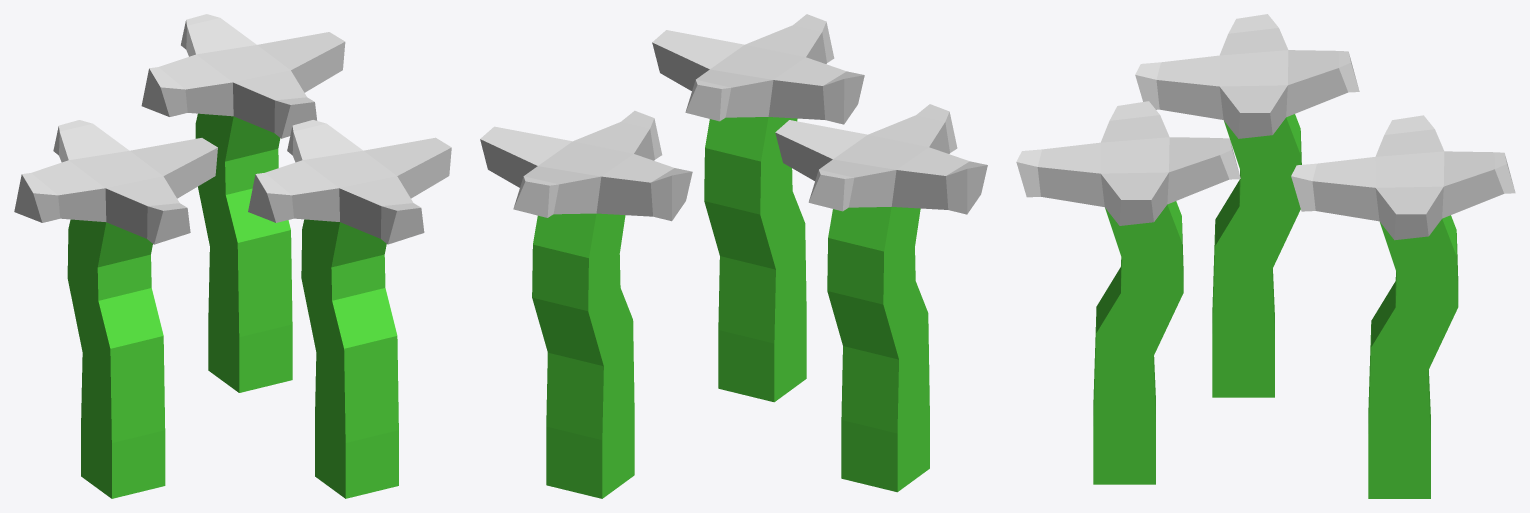
Rendered from flower_white_3.glb.
The picture shows the model from 3 angles, left to right: view 1: azimuth 30°, elevation 25°; view 2: azimuth 150°, elevation 25°; view 3: azimuth 270°, elevation 25°; orthographic projection. The views are drawn at different scales.
Parts seen in each view (by area): view 1: Cube.001, Cube.002, Cube; view 2: Cube, Cube.001, Cube.002; view 3: Cube.002, Cube, Cube.001.
Part boxes in pixels (x1,y1,x2,y2): Cube.001: (14,120,217,498); Cube.002: (248,120,451,498); Cube: (141,14,345,392); Cube: (480,110,692,498); Cube.001: (775,104,987,492); Cube.002: (652,14,864,402); Cube.002: (1016,101,1240,484); Cube: (1291,115,1515,498); Cube.001: (1135,14,1359,397).
Size of the model in its own units: 0.7329 by 0.5753 by 0.7971.
